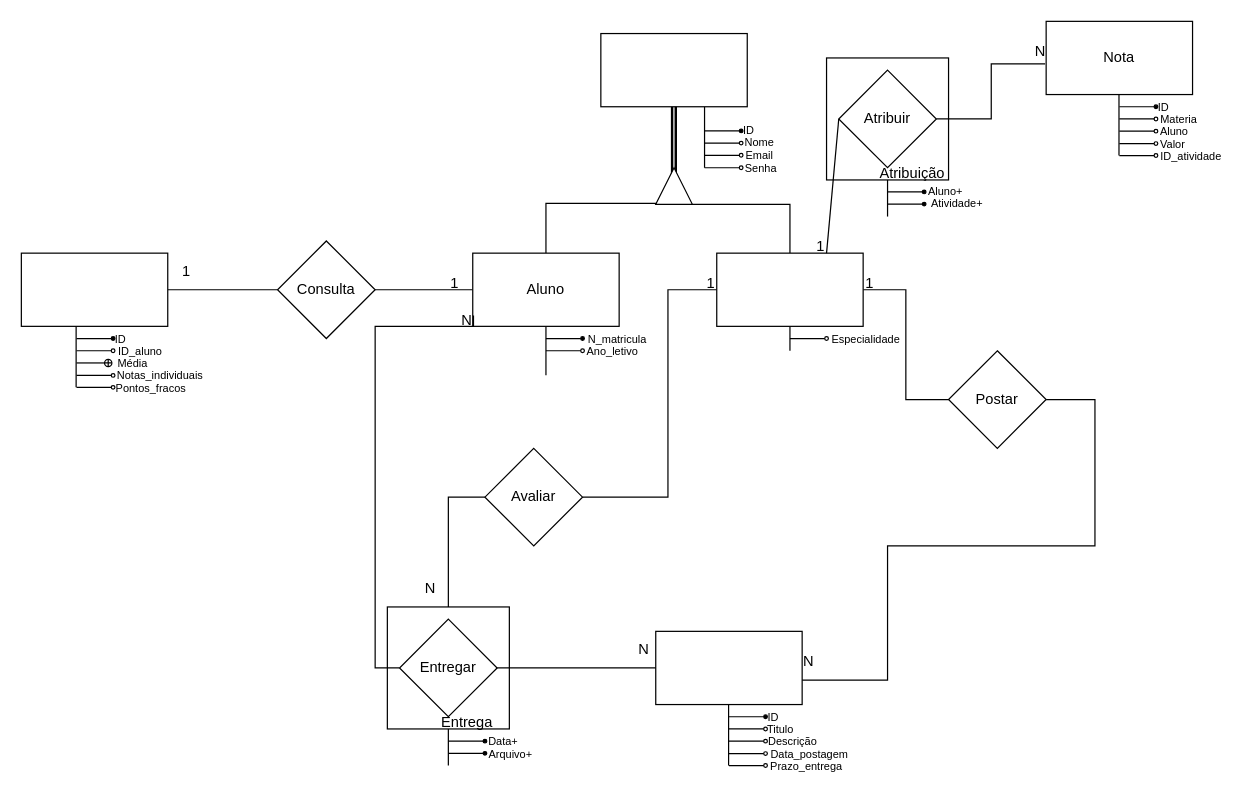
This 1242x794 diagram has some shape labels left out. Here are the shapes that lost their labels. From the top down, the centre of each, then its label:
At pixel 673 69: "Usuário".
At pixel 94 289: "Estatísticas de Desempenho".
At pixel 789 289: "Professor".
At pixel 728 667: "Atividade".
